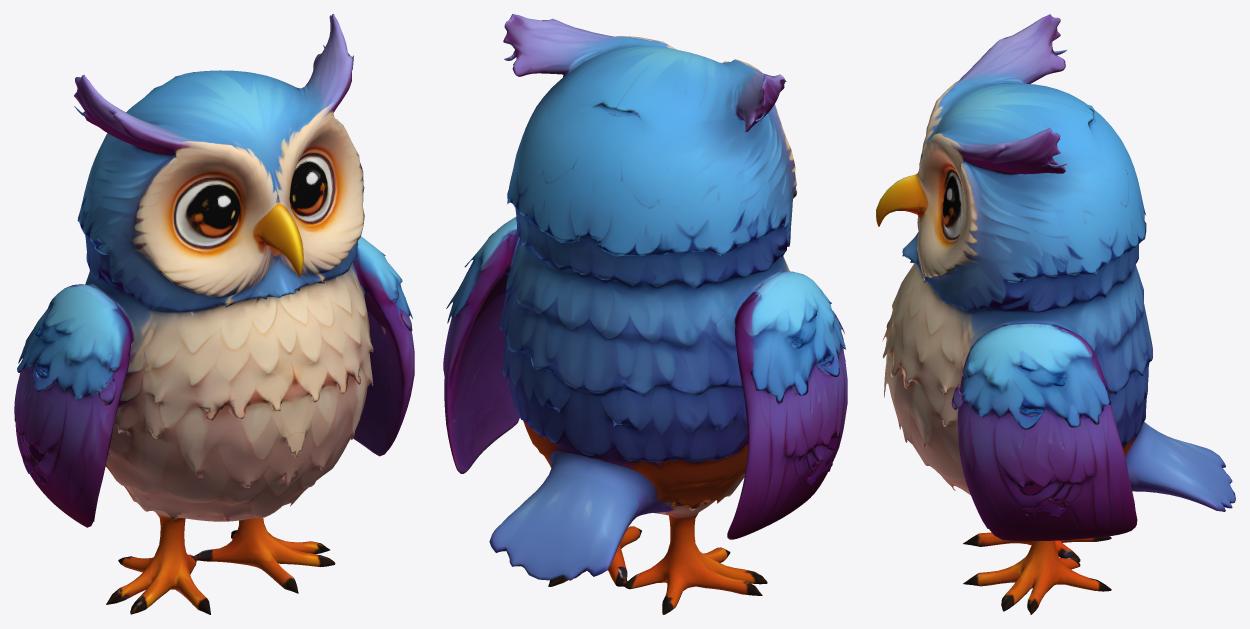
Rendered from lod_basic_pbr.fbx.
3 views of the same model, side by side, from view 1: azimuth 30°, elevation 25°; view 2: azimuth 150°, elevation 25°; view 3: azimuth 270°, elevation 25° (orthographic). The views are drawn at different scales.
Visible parts, largest first — view 1: model_LOD0; view 2: model_LOD0; view 3: model_LOD0.
Part boxes in pixels (box(x1,y1,x2,y2)): model_LOD0: box(14, 14, 414, 614); model_LOD0: box(443, 14, 847, 614); model_LOD0: box(876, 14, 1235, 614).
Size of what is drawn, in the model's own units: 135 by 184 by 122.
1 material, 1 textured.
